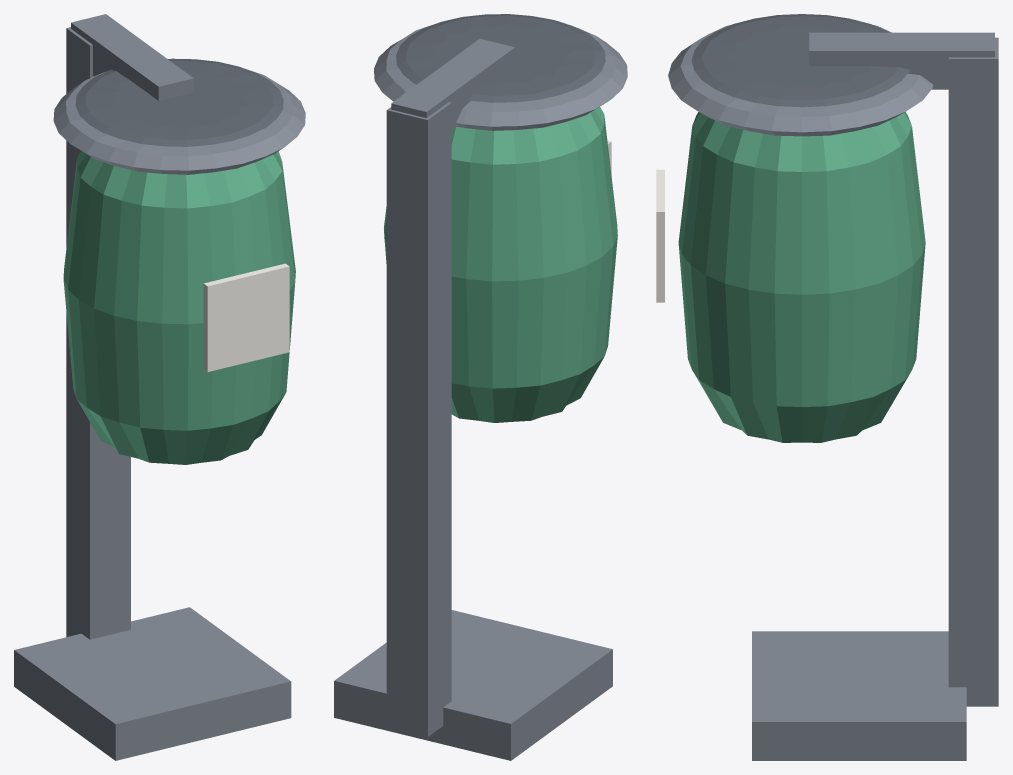
Rendered from lixeira.glb.
3 views of the same model, side by side, from view 1: azimuth 30°, elevation 25°; view 2: azimuth 150°, elevation 25°; view 3: azimuth 270°, elevation 25° (orthographic). The views are drawn at different scales.
Parts seen in each view (by area): view 1: Lixeira; view 2: Lixeira; view 3: Lixeira.
Part boxes in pixels (x1,y1,x2,y2): Lixeira: [14, 14, 305, 760]; Lixeira: [334, 14, 627, 760]; Lixeira: [656, 14, 998, 760].
Size of the model in its own units: 0.3742 by 1.04 by 0.479.
